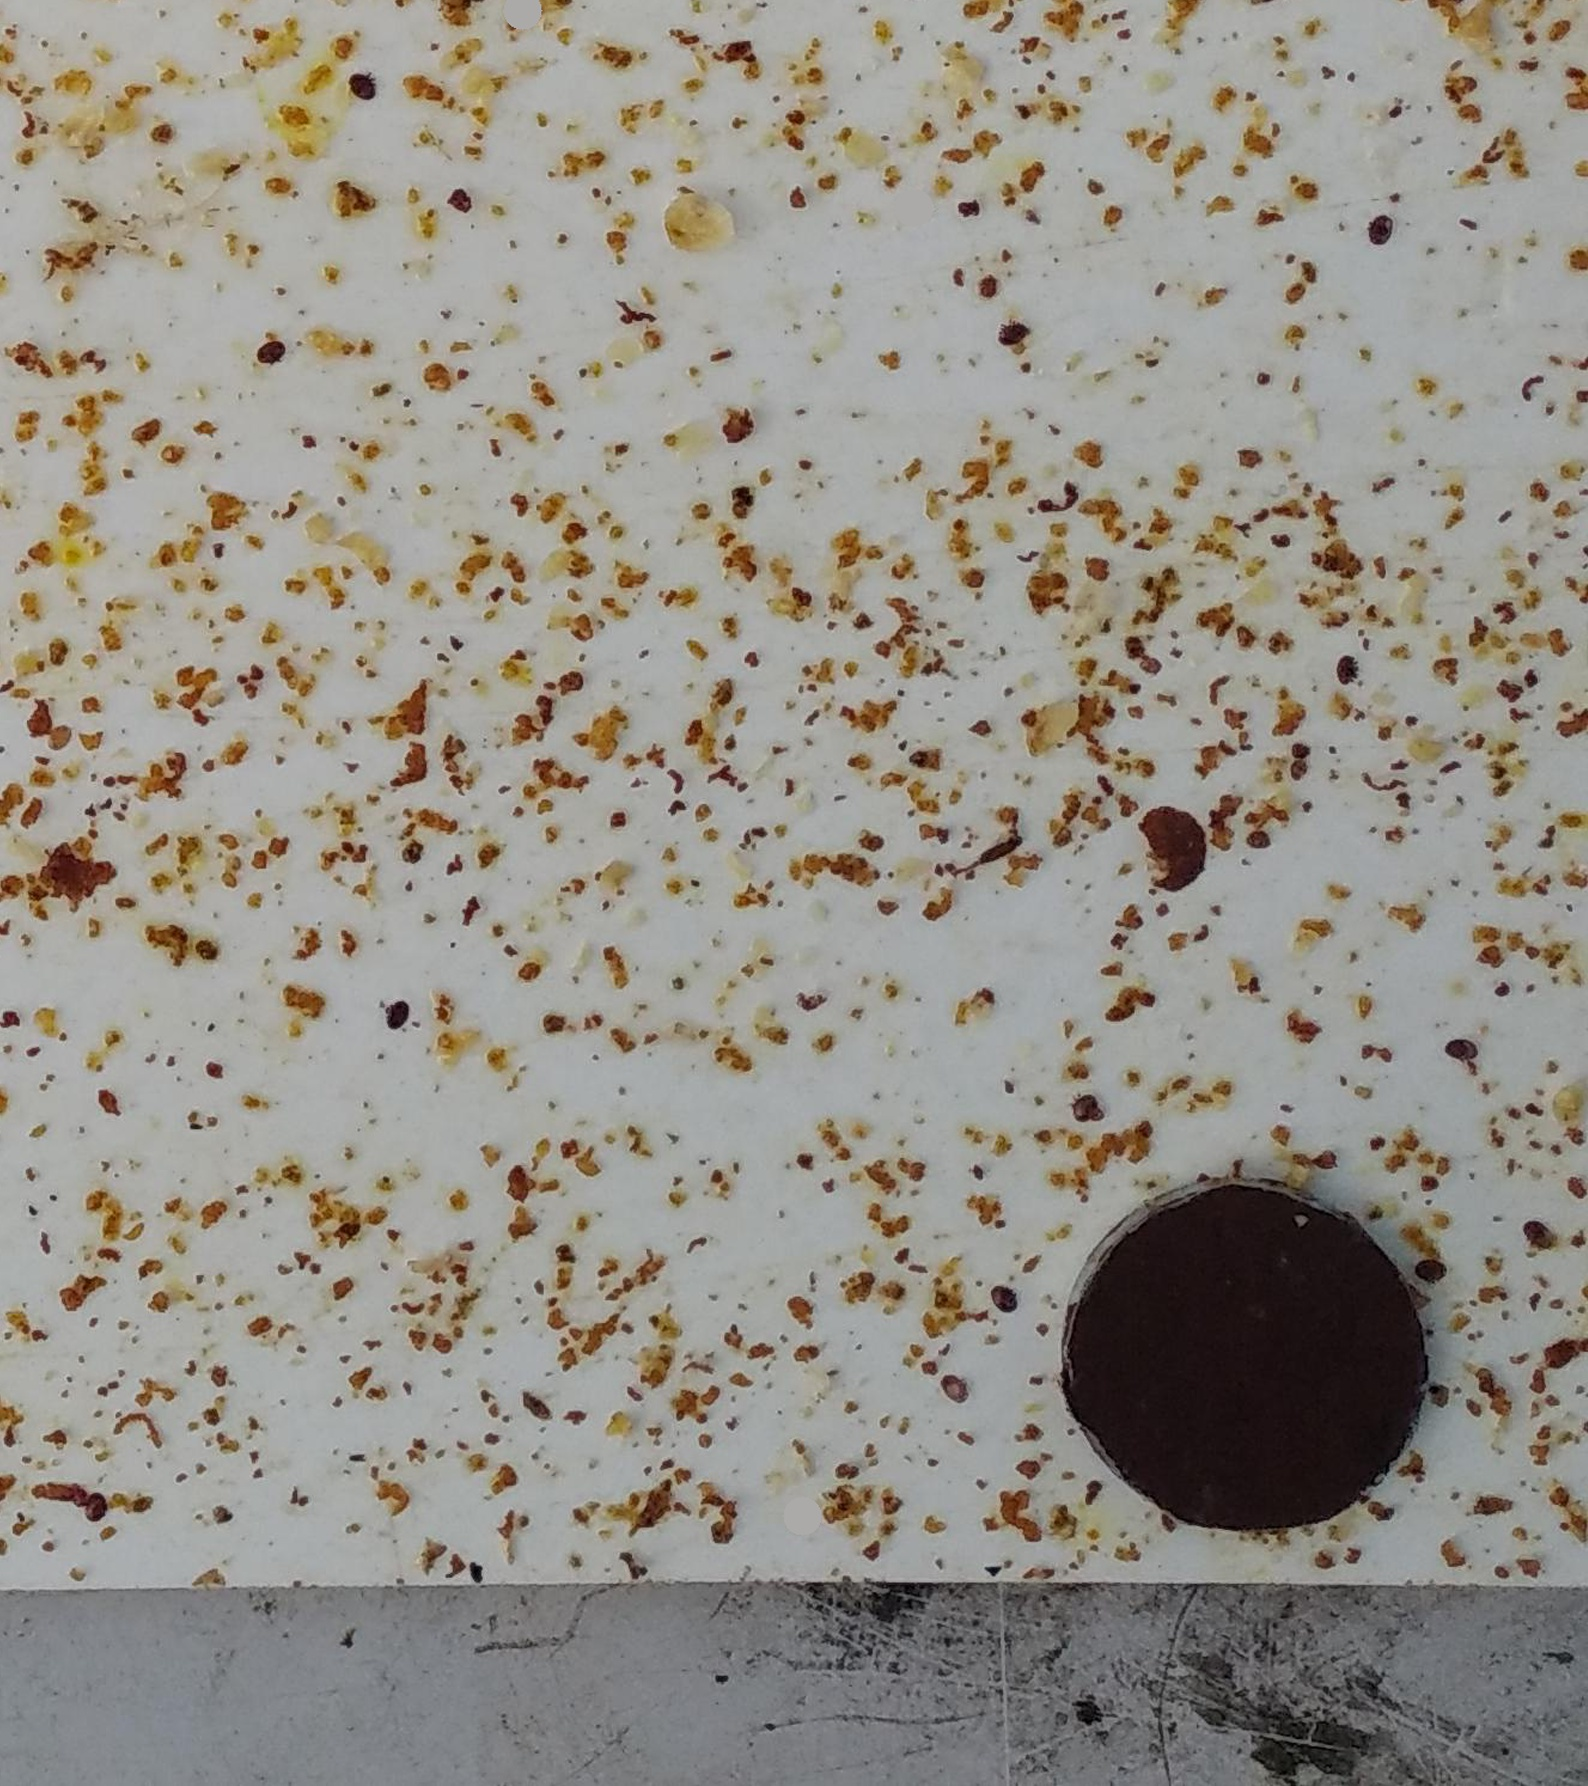Varroa: (1330, 641, 1369, 684), (40, 717, 78, 757), (77, 1492, 107, 1522), (1516, 1217, 1545, 1246), (1367, 219, 1396, 248), (1445, 1038, 1473, 1065), (938, 1374, 966, 1401), (1071, 1098, 1097, 1125), (254, 336, 281, 363), (999, 319, 1025, 345), (1416, 1259, 1441, 1285), (380, 1000, 405, 1026), (992, 1286, 1015, 1311), (349, 69, 372, 94), (368, 74, 383, 101)
